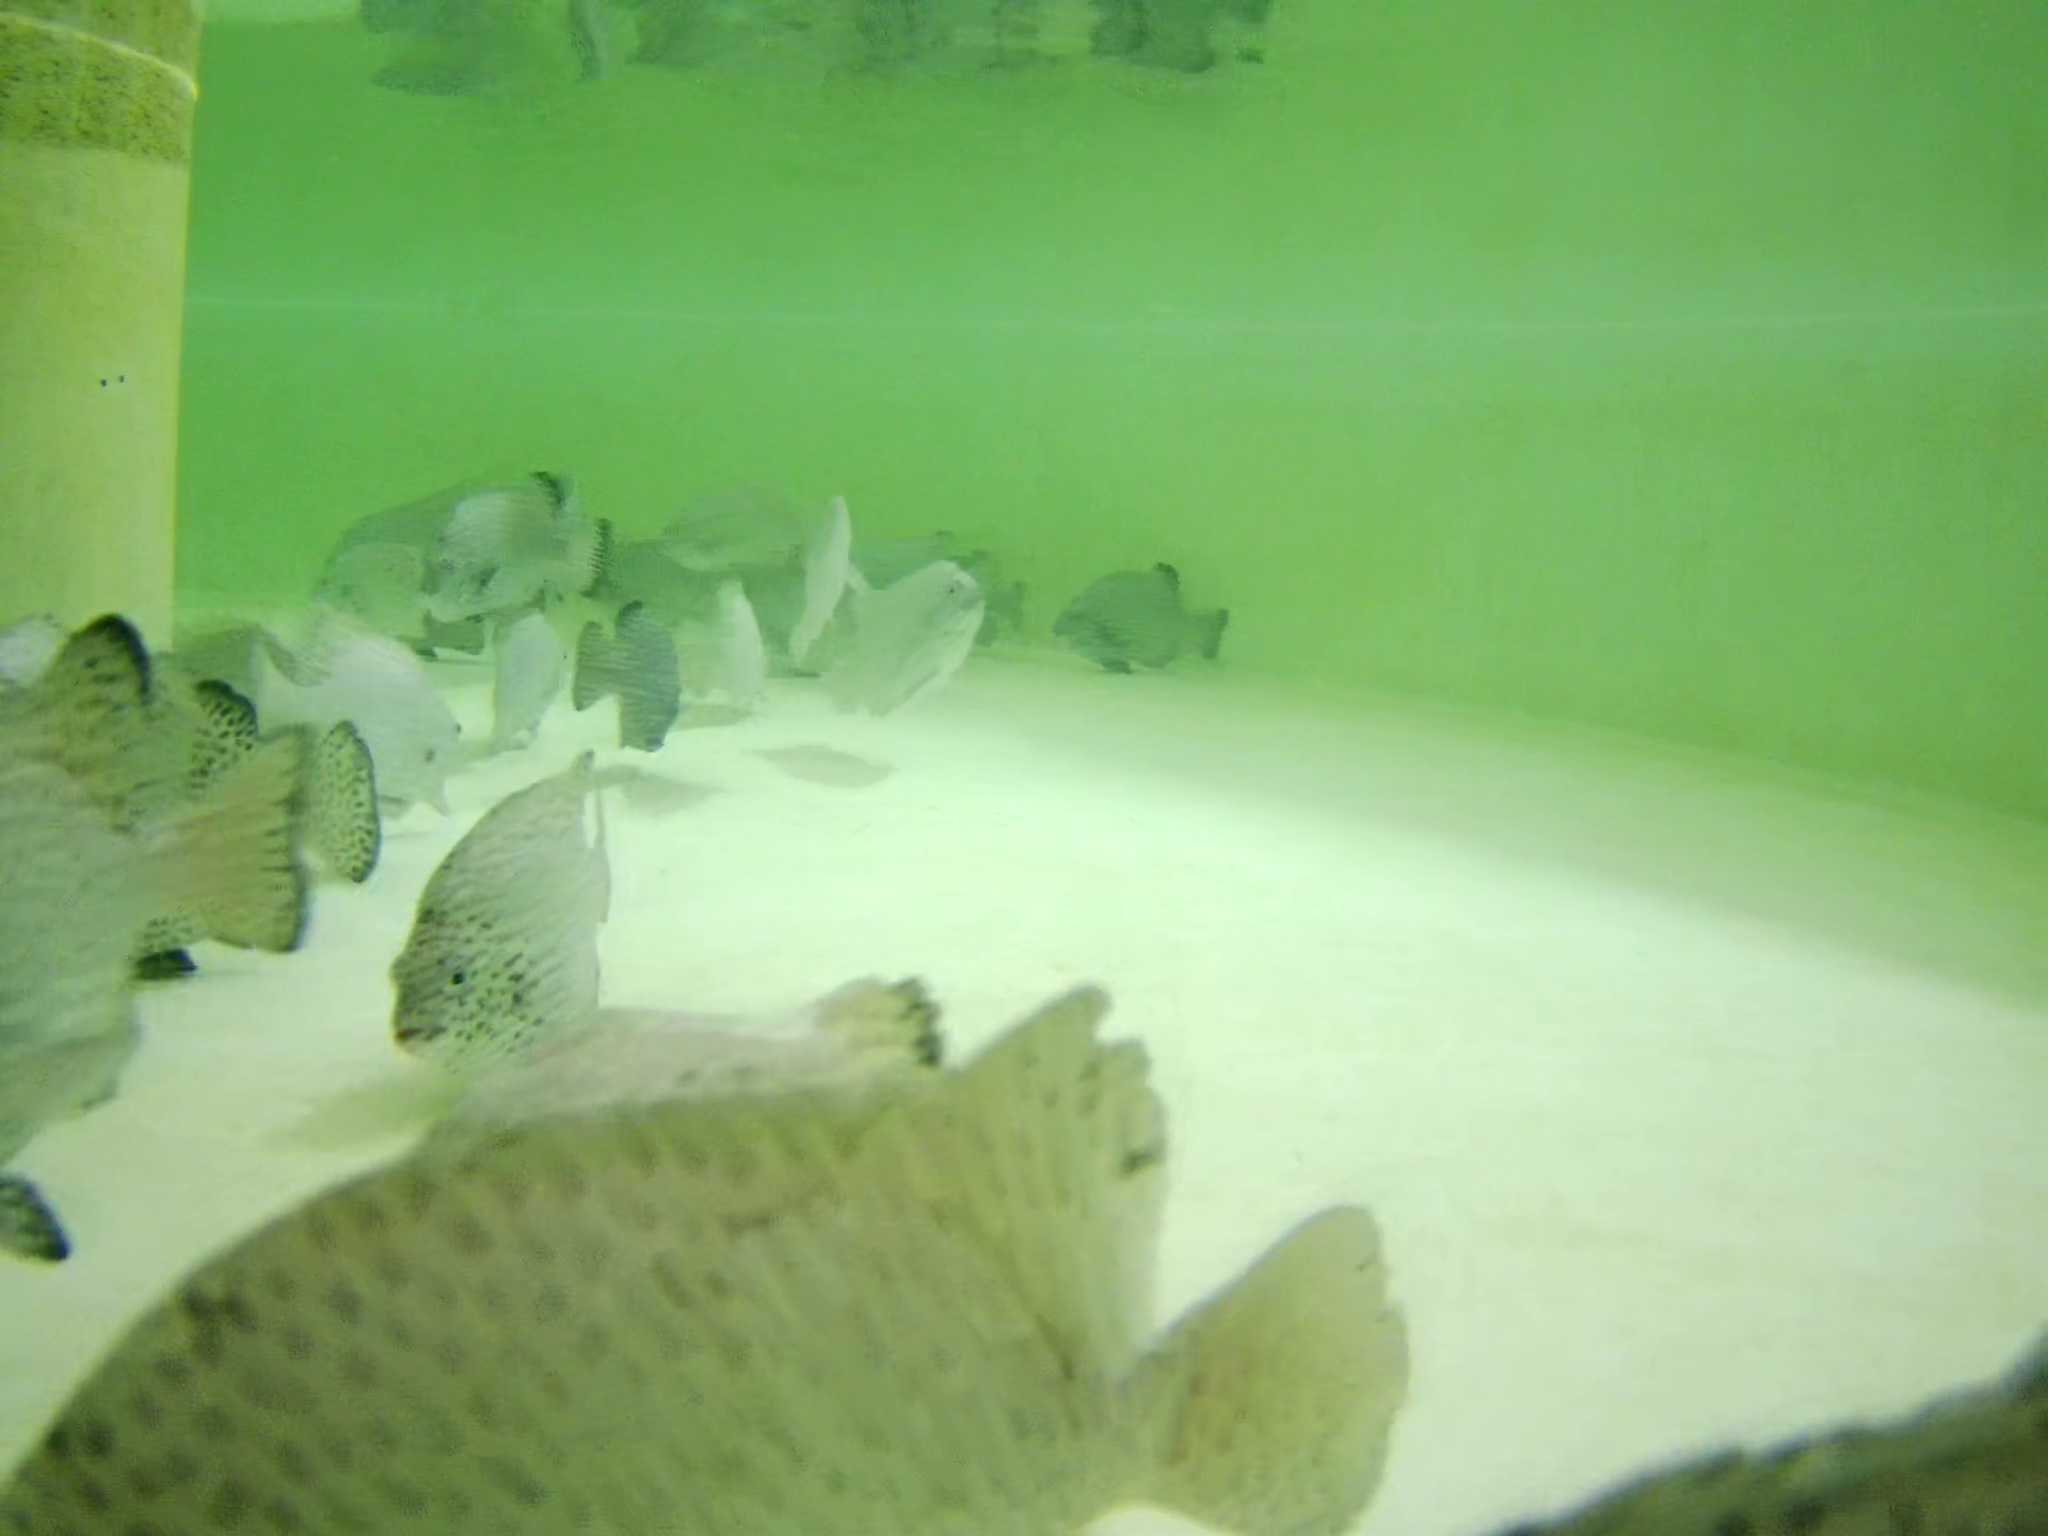fish: (27, 984, 1421, 1536), (2, 602, 310, 1213), (443, 981, 958, 1137), (393, 783, 618, 1058), (135, 723, 408, 891), (255, 657, 498, 802), (810, 565, 989, 723), (1043, 560, 1248, 695), (400, 481, 605, 595), (572, 599, 695, 737), (679, 560, 777, 724), (779, 502, 864, 665), (487, 620, 569, 753)
